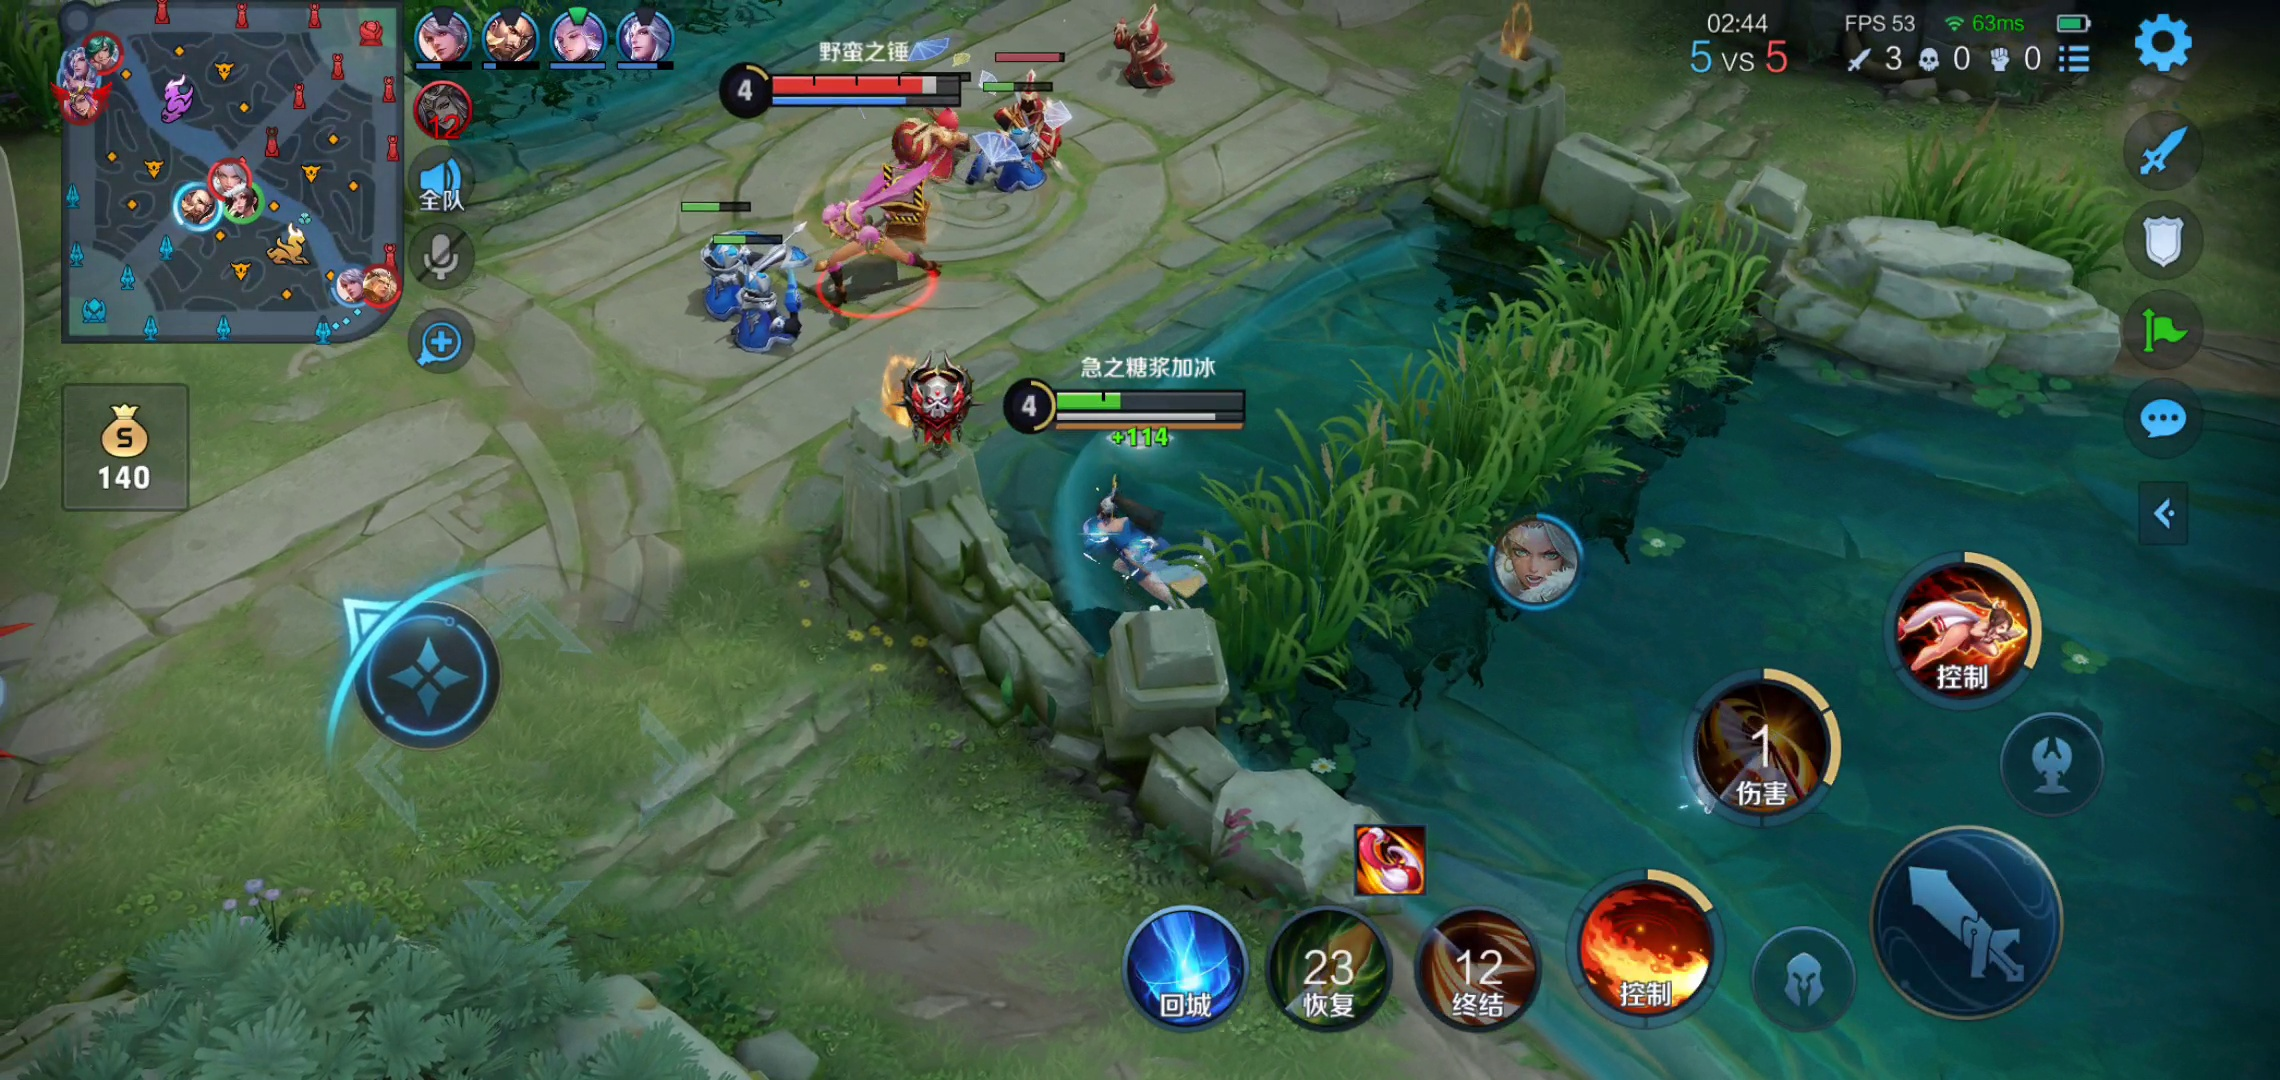grass: (1171, 240, 1765, 701), (1867, 142, 2126, 283)
hero: (1060, 485, 1200, 616), (811, 180, 955, 301)
soldier: (731, 272, 807, 356), (1109, 12, 1187, 92), (691, 233, 758, 323), (989, 78, 1072, 145), (982, 131, 1045, 196)
